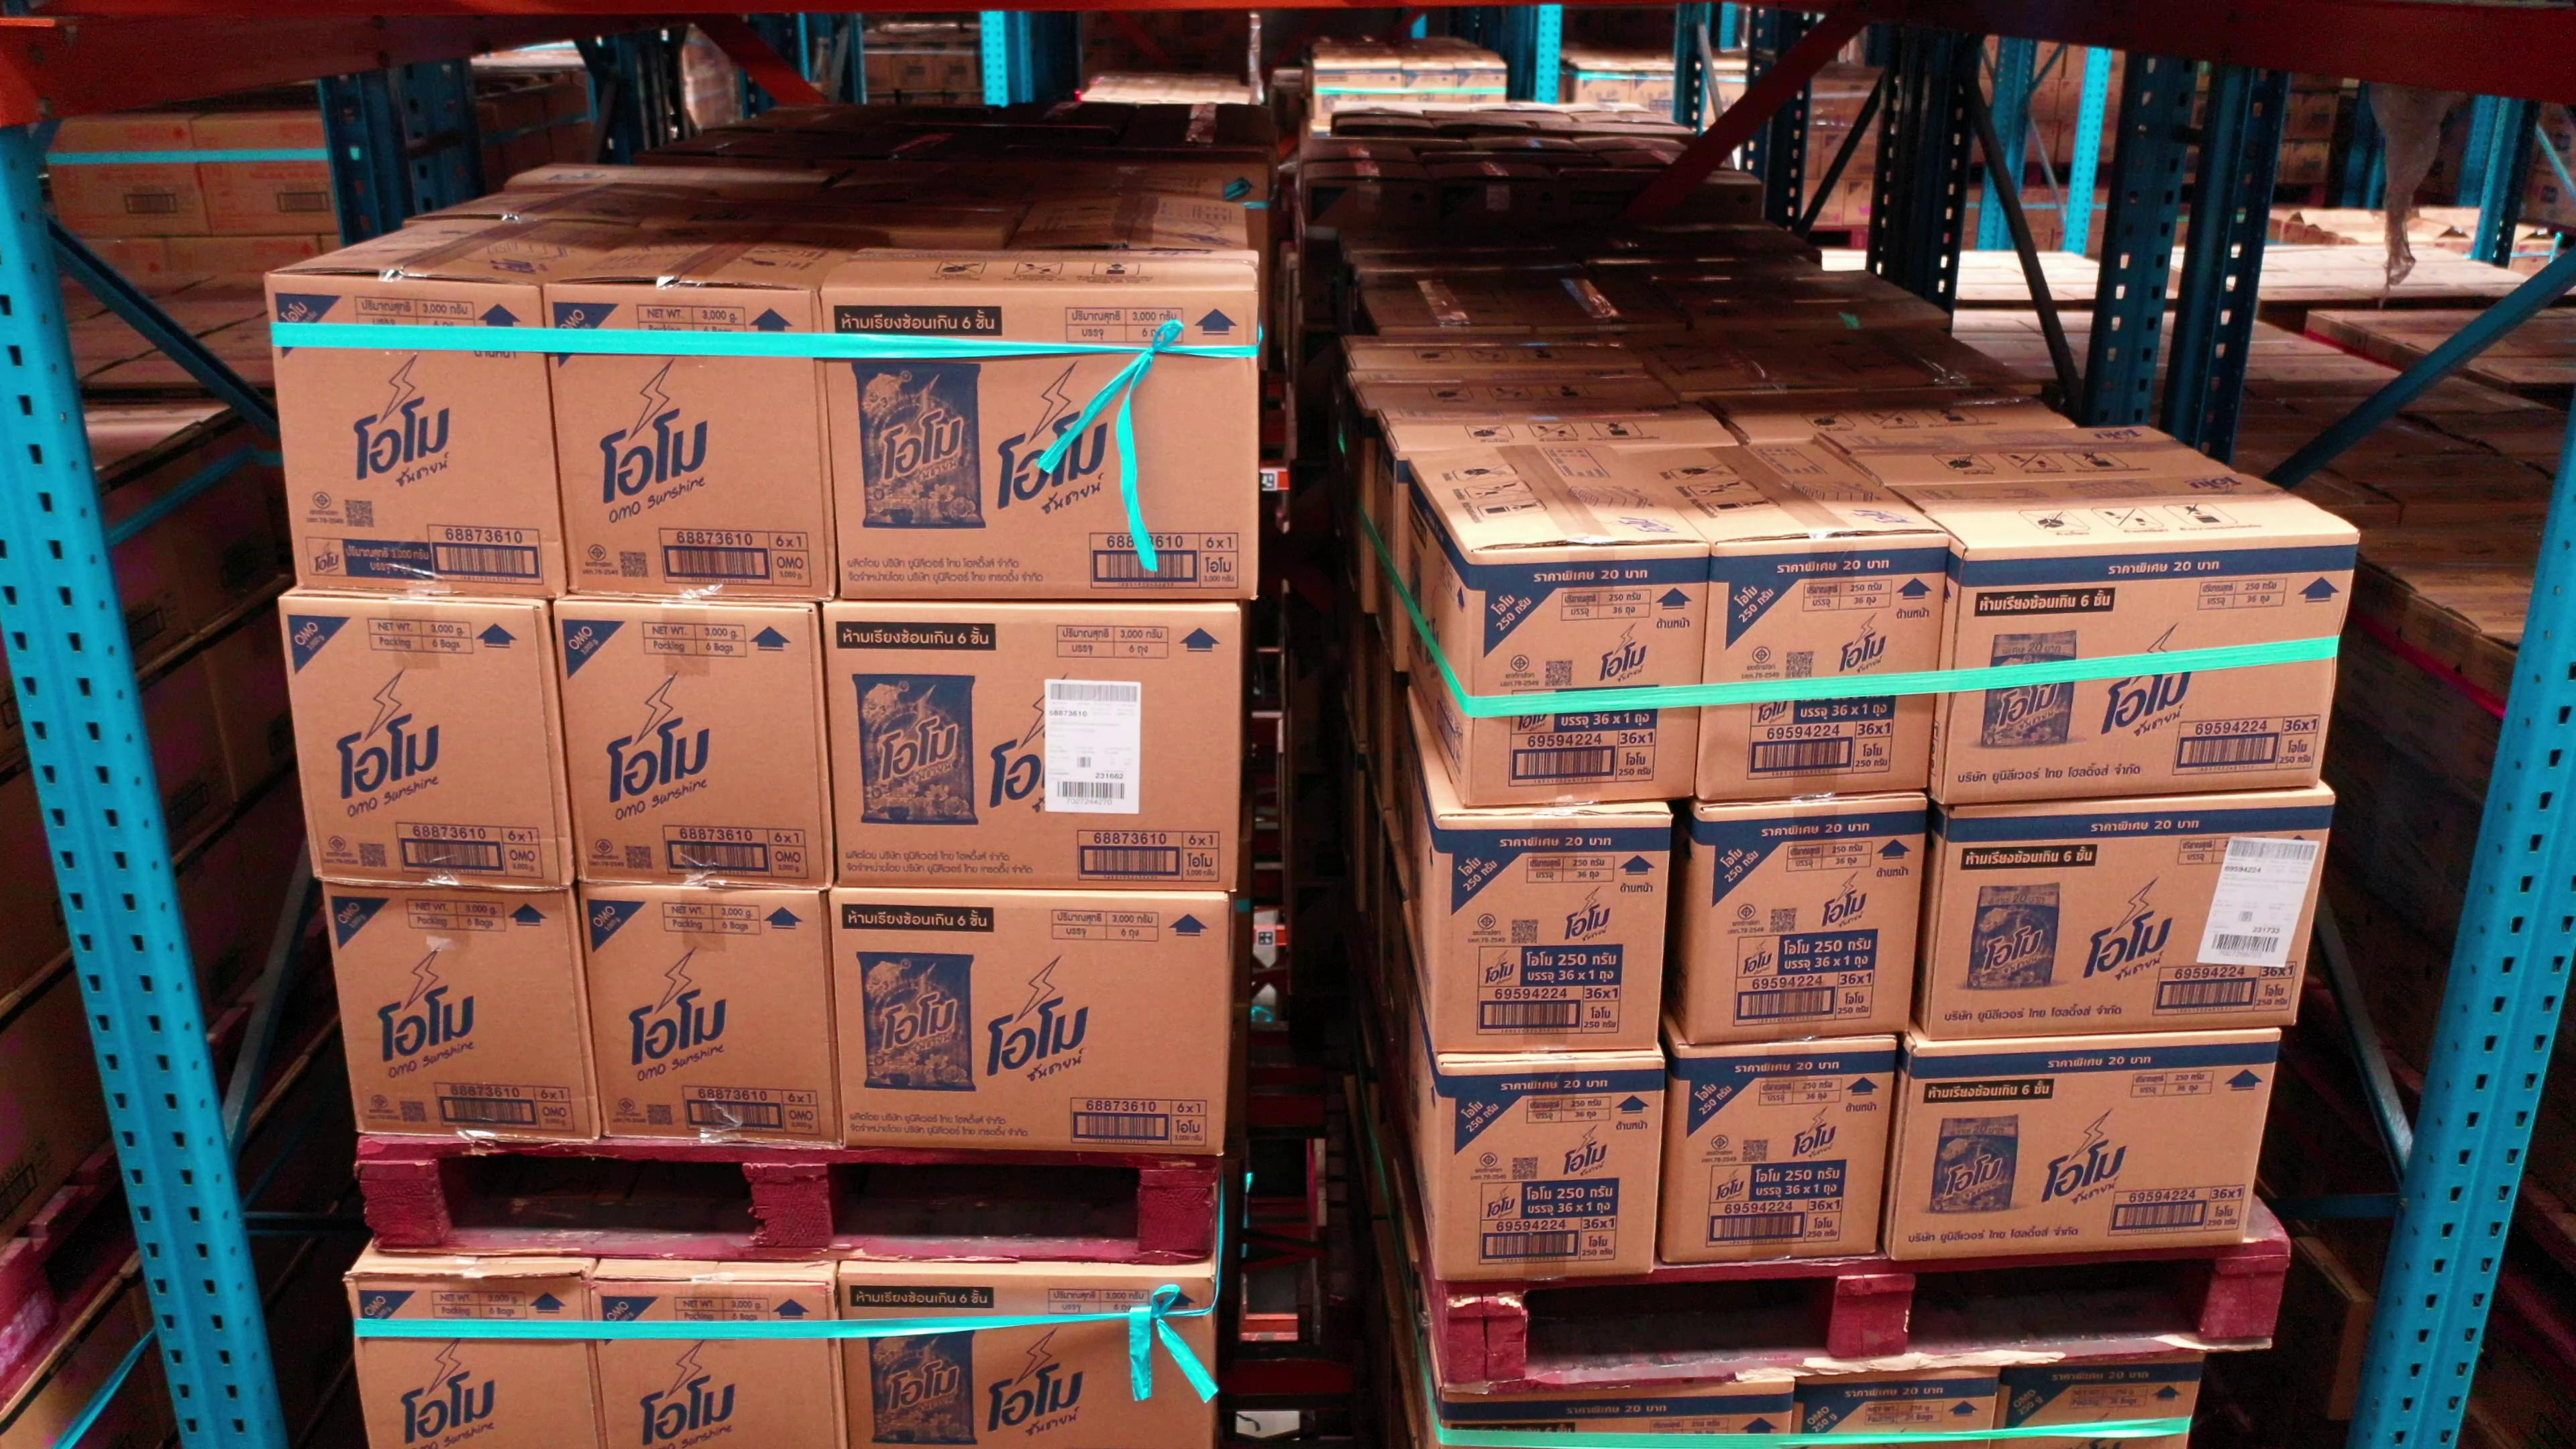-: (821, 288, 1261, 603), (823, 596, 1240, 895), (1943, 533, 2364, 800), (832, 885, 1231, 1152), (264, 271, 568, 603), (1925, 798, 2337, 1040), (541, 280, 833, 603), (1890, 1037, 2281, 1256), (281, 600, 570, 892), (552, 600, 830, 890), (317, 881, 594, 1141), (582, 881, 840, 1146), (1702, 531, 1948, 805), (1463, 541, 1709, 805), (837, 1277, 1214, 1449), (1431, 814, 1670, 1053), (1695, 805, 1927, 1042), (1433, 1060, 1667, 1283), (1667, 1044, 1900, 1256), (349, 1270, 607, 1449), (587, 1277, 846, 1449), (1438, 1382, 1796, 1449), (1997, 1359, 2203, 1449), (1794, 1371, 1999, 1449)
